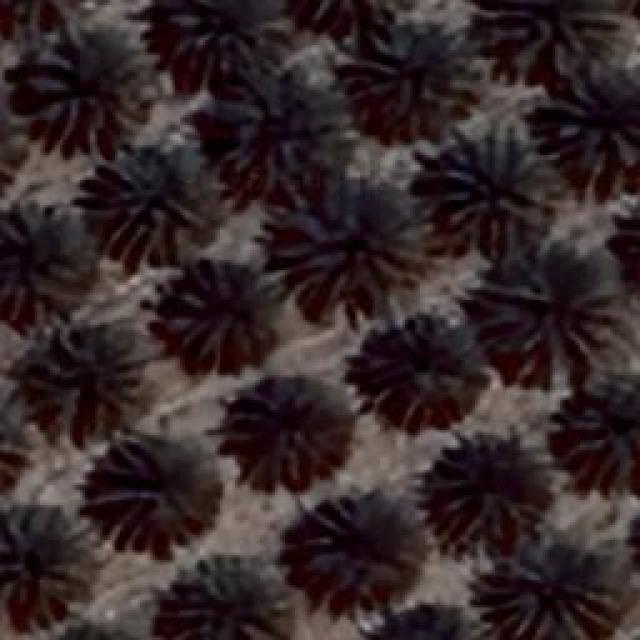PalmTree: (119, 32, 548, 128), (54, 128, 119, 565), (478, 232, 616, 390), (267, 190, 435, 305), (19, 25, 152, 150), (350, 20, 480, 145), (430, 128, 560, 248), (24, 316, 154, 436), (88, 148, 212, 268), (84, 442, 224, 548), (204, 85, 338, 193), (474, 538, 618, 638), (356, 317, 476, 435), (162, 260, 282, 370), (145, 0, 293, 88), (162, 547, 298, 635), (229, 382, 349, 480), (430, 442, 548, 540), (301, 504, 419, 602), (0, 207, 92, 320), (547, 60, 635, 178), (552, 382, 640, 490), (286, 0, 412, 28), (370, 611, 488, 640), (0, 385, 25, 497), (615, 186, 640, 298), (32, 618, 150, 640), (0, 90, 22, 200), (0, 0, 87, 27), (622, 189, 640, 297), (28, 625, 152, 640), (0, 88, 16, 202), (0, 0, 85, 19), (628, 191, 640, 295)
